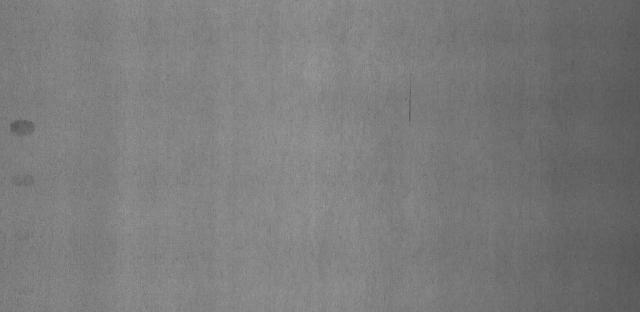oil_spot: (8, 109, 40, 141), (5, 168, 43, 192)
